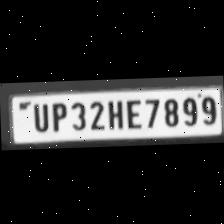2: (86, 96, 104, 130)
3: (66, 97, 86, 130)
7: (142, 94, 160, 127)
8: (158, 93, 180, 126)
9: (196, 92, 218, 125), (179, 92, 199, 126)
E: (124, 95, 142, 128)
H: (103, 96, 123, 128)
P: (47, 98, 67, 132)
U: (28, 99, 50, 132)
